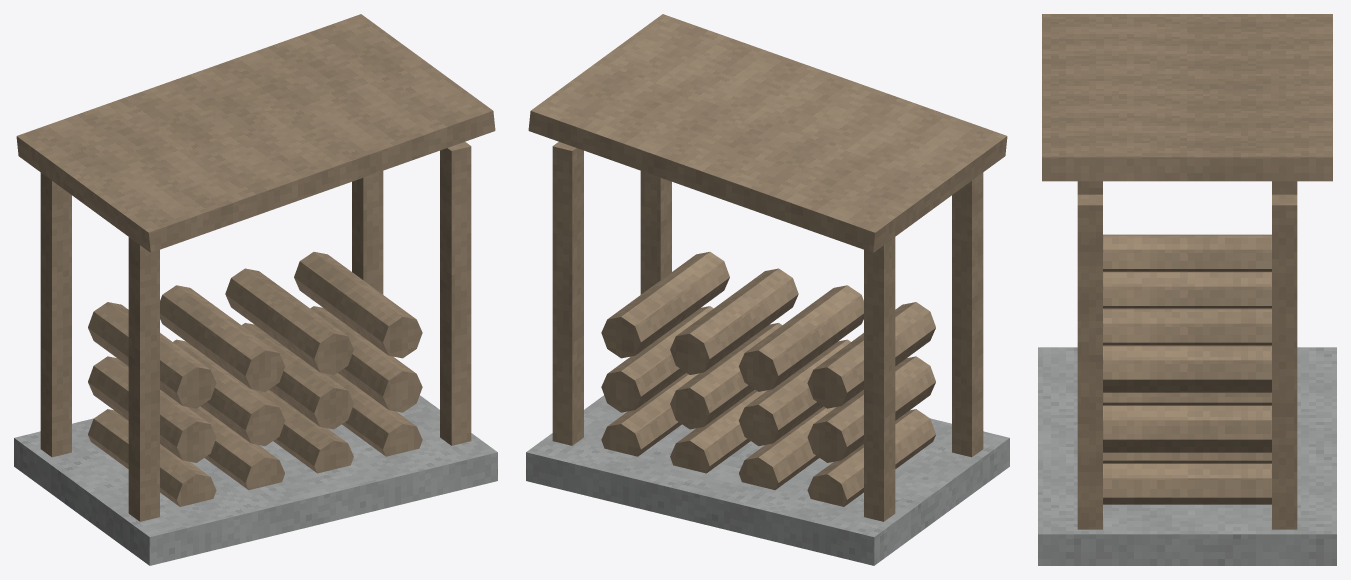
The model's file is level_blockout_camp_woodpile_lean_to.glb.
The picture shows the model from 3 angles, left to right: view 1: azimuth 30°, elevation 25°; view 2: azimuth 150°, elevation 25°; view 3: azimuth 270°, elevation 25°; orthographic projection. The views are drawn at different scales.
Visible parts, largest first — view 1: level_blockout_camp_woodpile_lean_to; view 2: level_blockout_camp_woodpile_lean_to; view 3: level_blockout_camp_woodpile_lean_to.
Boxes of the visible parts, x1=… form: level_blockout_camp_woodpile_lean_to: x1=14, y1=14, x2=497, y2=565; level_blockout_camp_woodpile_lean_to: x1=526, y1=14, x2=1009, y2=565; level_blockout_camp_woodpile_lean_to: x1=1038, y1=14, x2=1336, y2=565.
Size of the model in its own units: 2.28 by 2.32 by 1.54.
2 materials, 2 textured.
